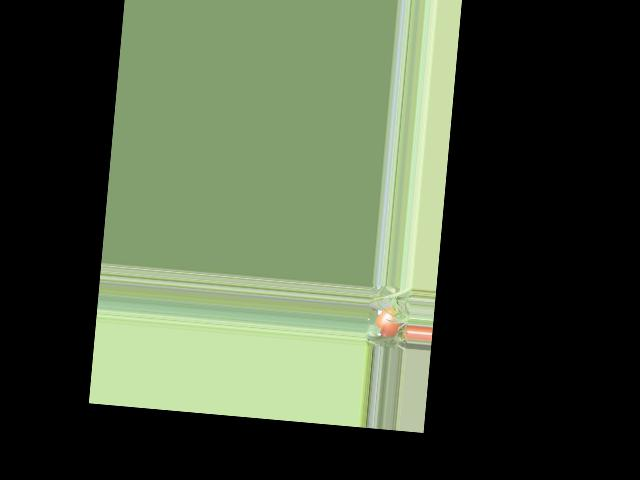tomato: (374, 306, 403, 338)
